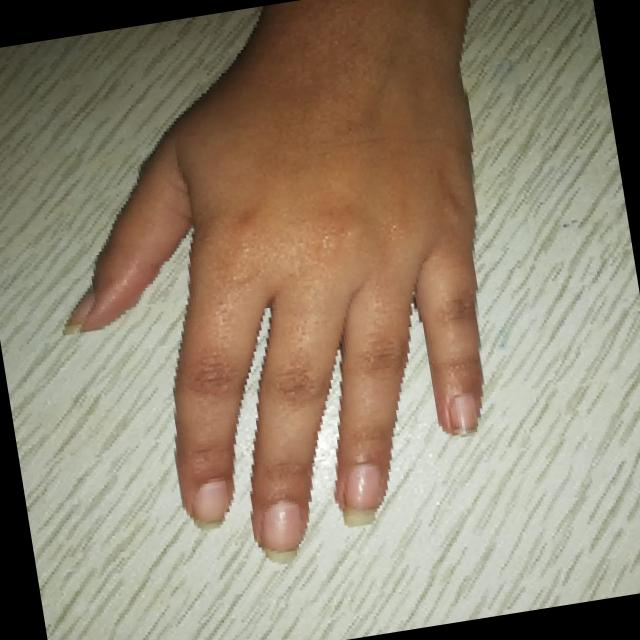Nail: (342, 463, 380, 524), (262, 500, 298, 563), (192, 478, 229, 530), (61, 288, 95, 335), (448, 393, 480, 436)
